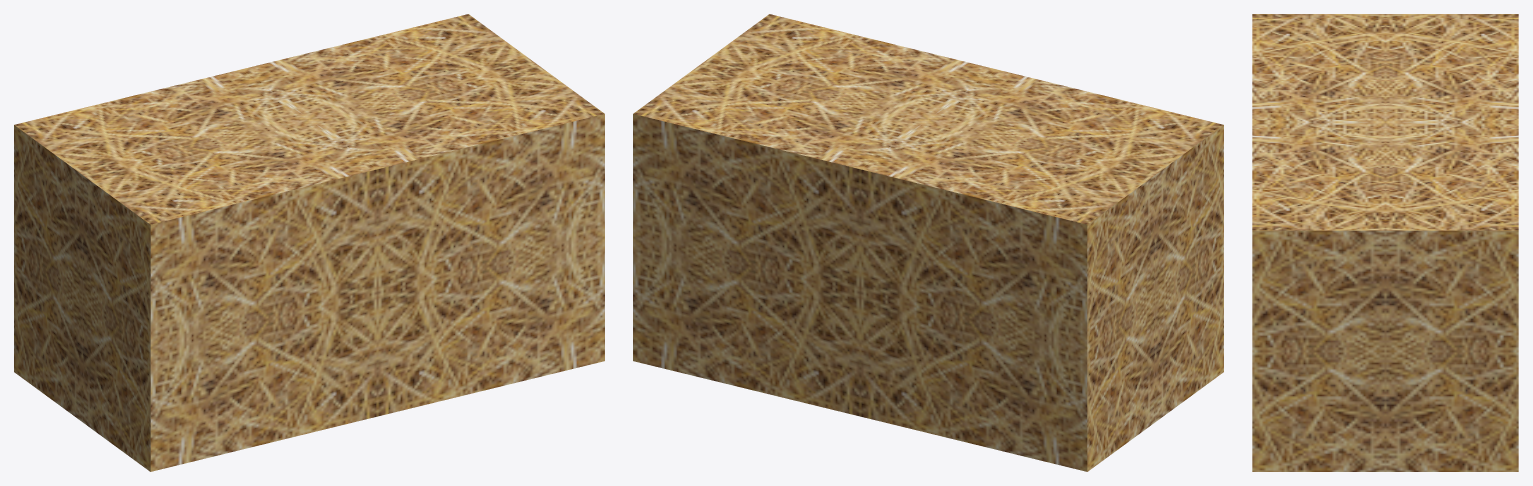
3 renders of one model, left to right at view 1: azimuth 30°, elevation 25°; view 2: azimuth 150°, elevation 25°; view 3: azimuth 270°, elevation 25°, orthographic. The views are drawn at different scales.
Parts seen in each view (by area): view 1: Cube.027; view 2: Cube.027; view 3: Cube.027.
Boxes of the visible parts, <box> form: Cube.027: <box>14,14,604,471</box>; Cube.027: <box>633,14,1223,471</box>; Cube.027: <box>1252,14,1518,471</box>.
Size of the model in its own units: 112 by 58.31 by 58.31.
